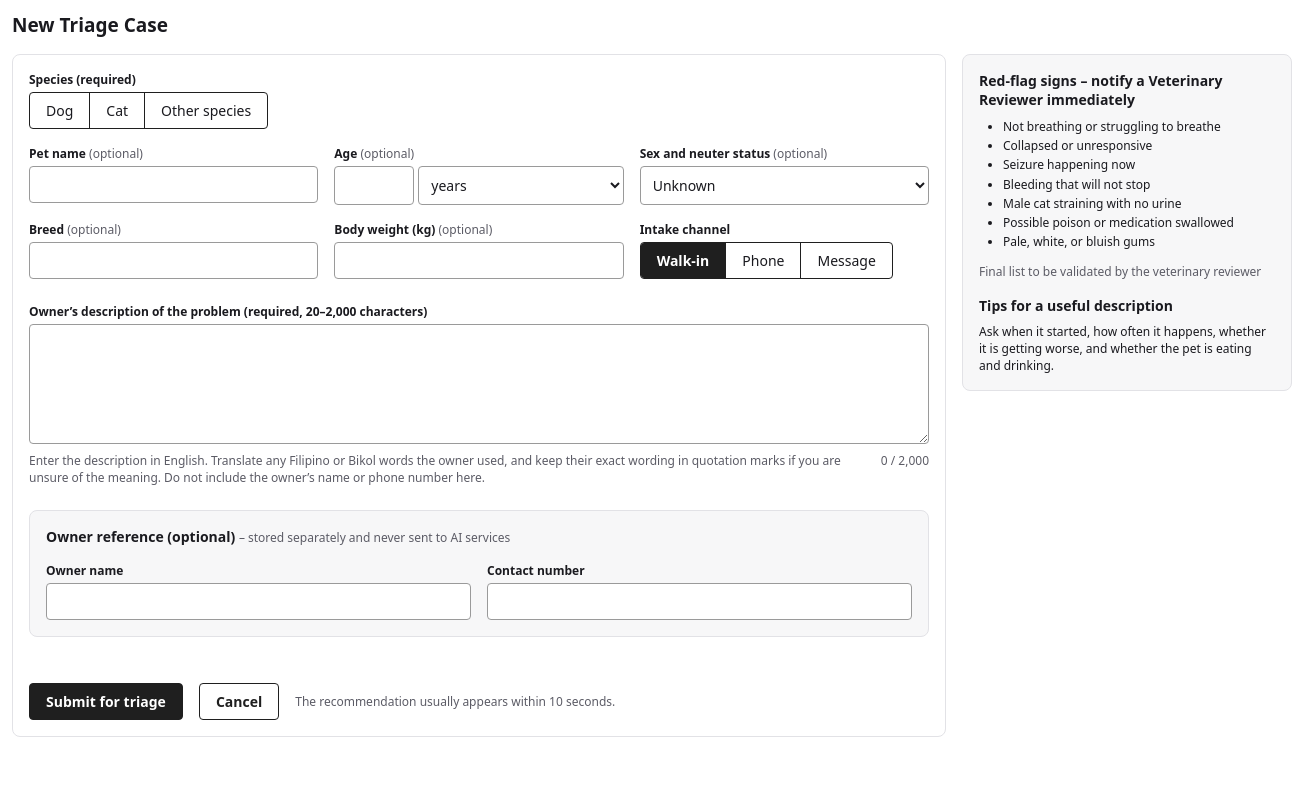
Test case: CaseIntake other species (FR-02, BR-06) › shows the manual-triage message and disables submission
Click the radio button labelled "Other species": point(206, 110) [161, 101, 251, 120]
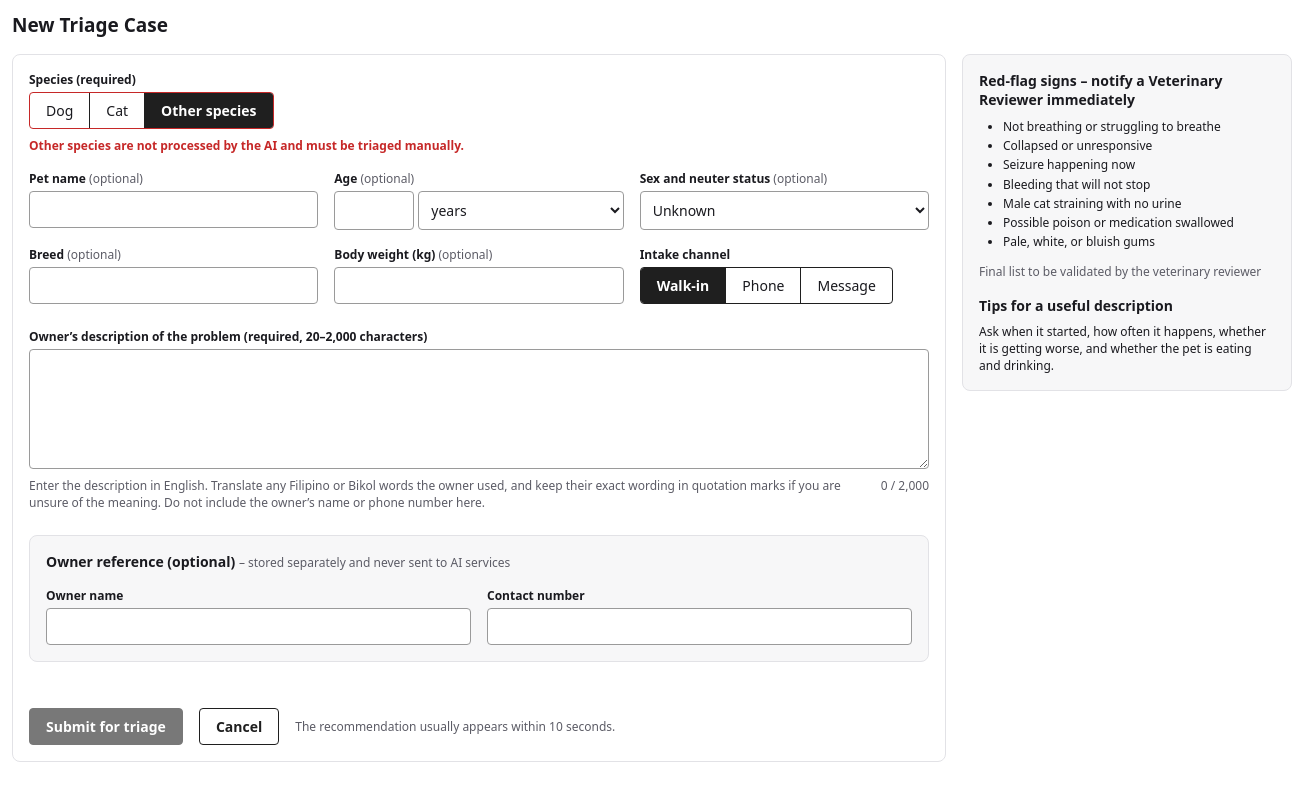
Result: the text "Other species are not processed by the AI and must be triaged manually." is shown at [29, 137, 464, 154]
Result: the button "Submit for triage" is disabled at [29, 708, 183, 745]
